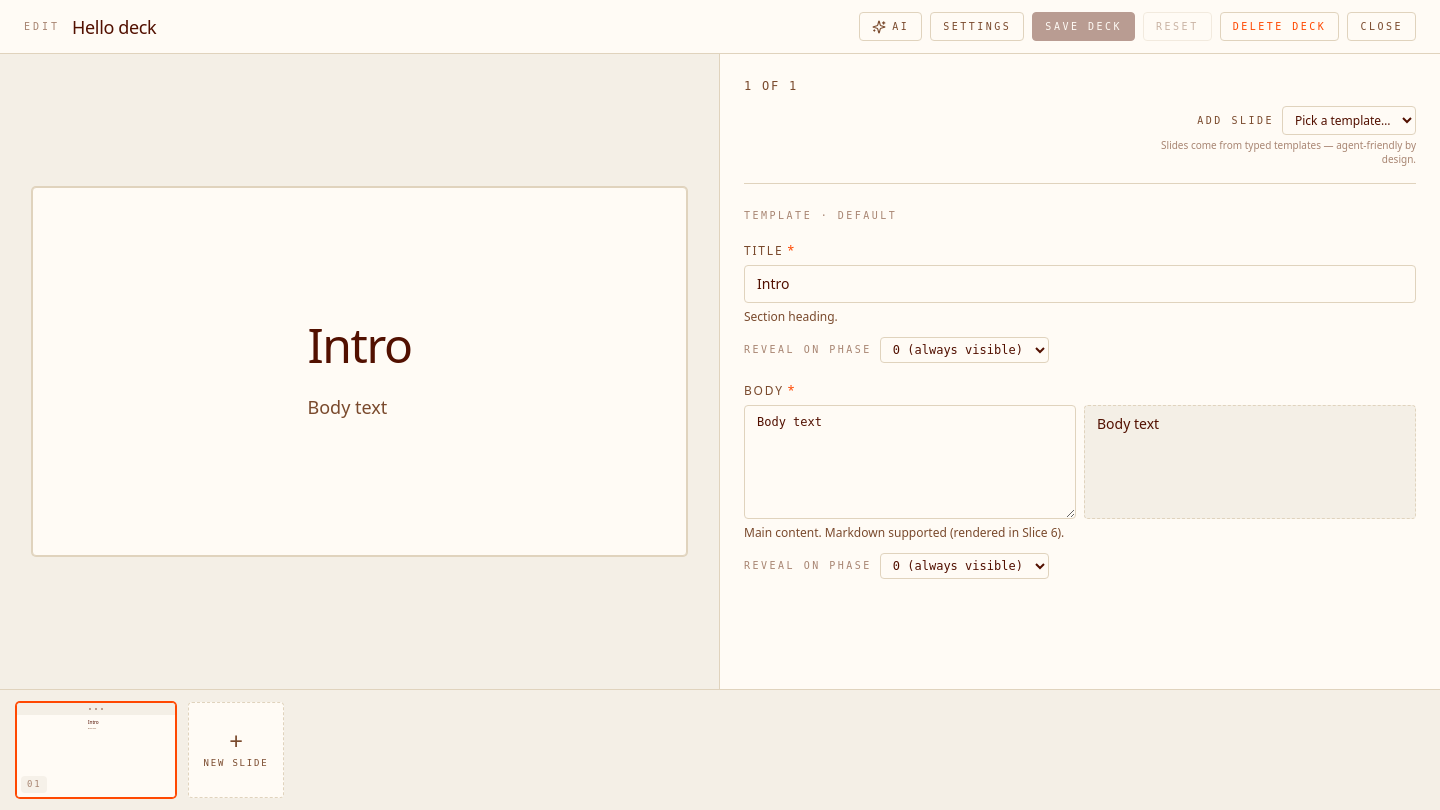
Test: <EditMode> — deck metadata panel › clicking Settings opens the metadata panel
Click the button with test id "edit-meta-toggle". click: (977, 26)
box: [930, 12, 1024, 41]
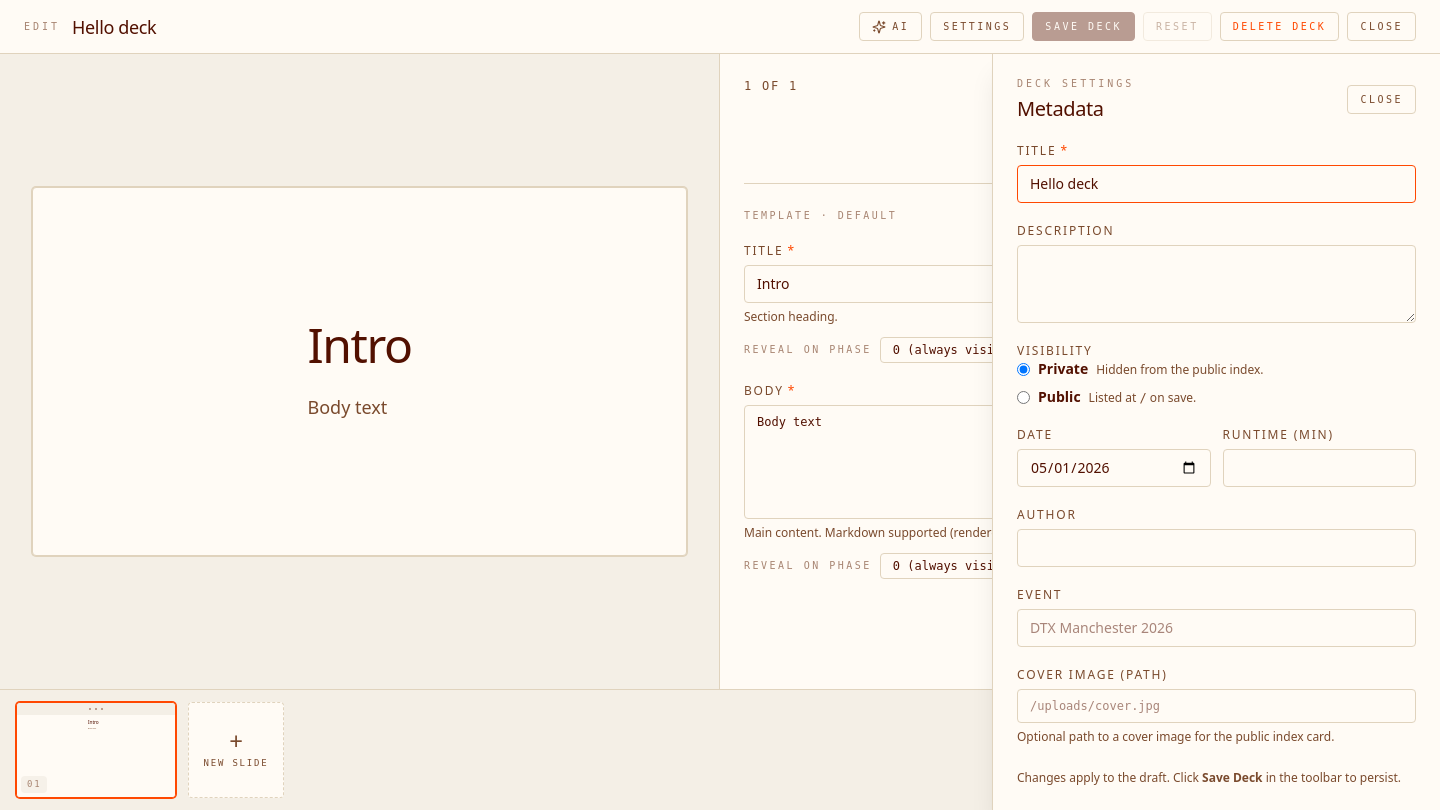
expect the dialog with test id "deck-meta-panel" is shown: met, box [992, 52, 1439, 809]
